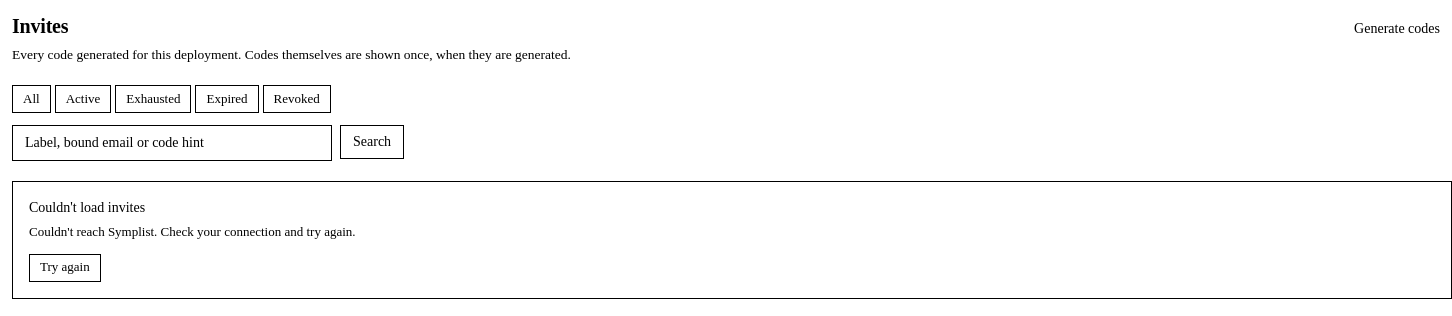
Test: the invite inventory (admin_invites.md) › reports a failed load with a retry
expect the text "Couldn't load invites" is shown: met, box x1=29 y1=200 x2=145 y2=215
What coordinates should you click on to do the following:
click the button "Try again"
I would click on:
 (65, 268)
Its box is x1=29 y1=254 x2=101 y2=282.
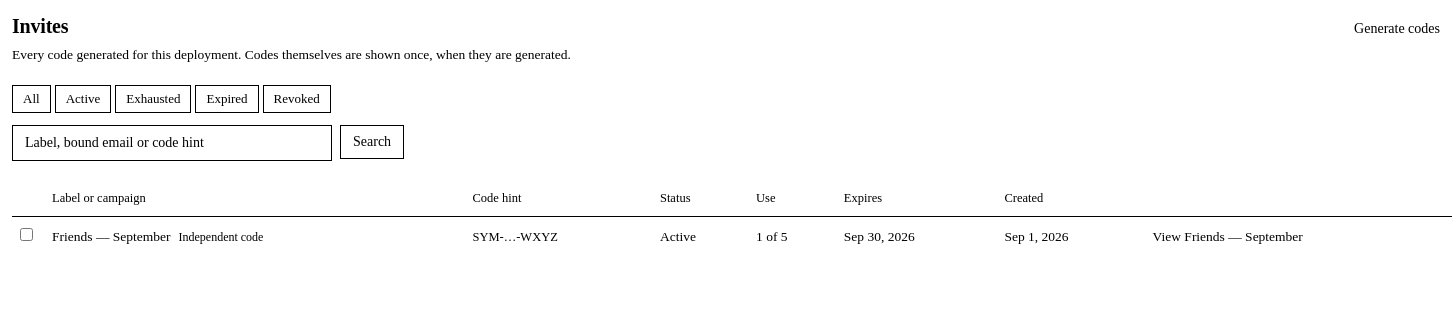
expect the text "Friends — September" is shown: met, box x1=52 y1=228 x2=170 y2=244
